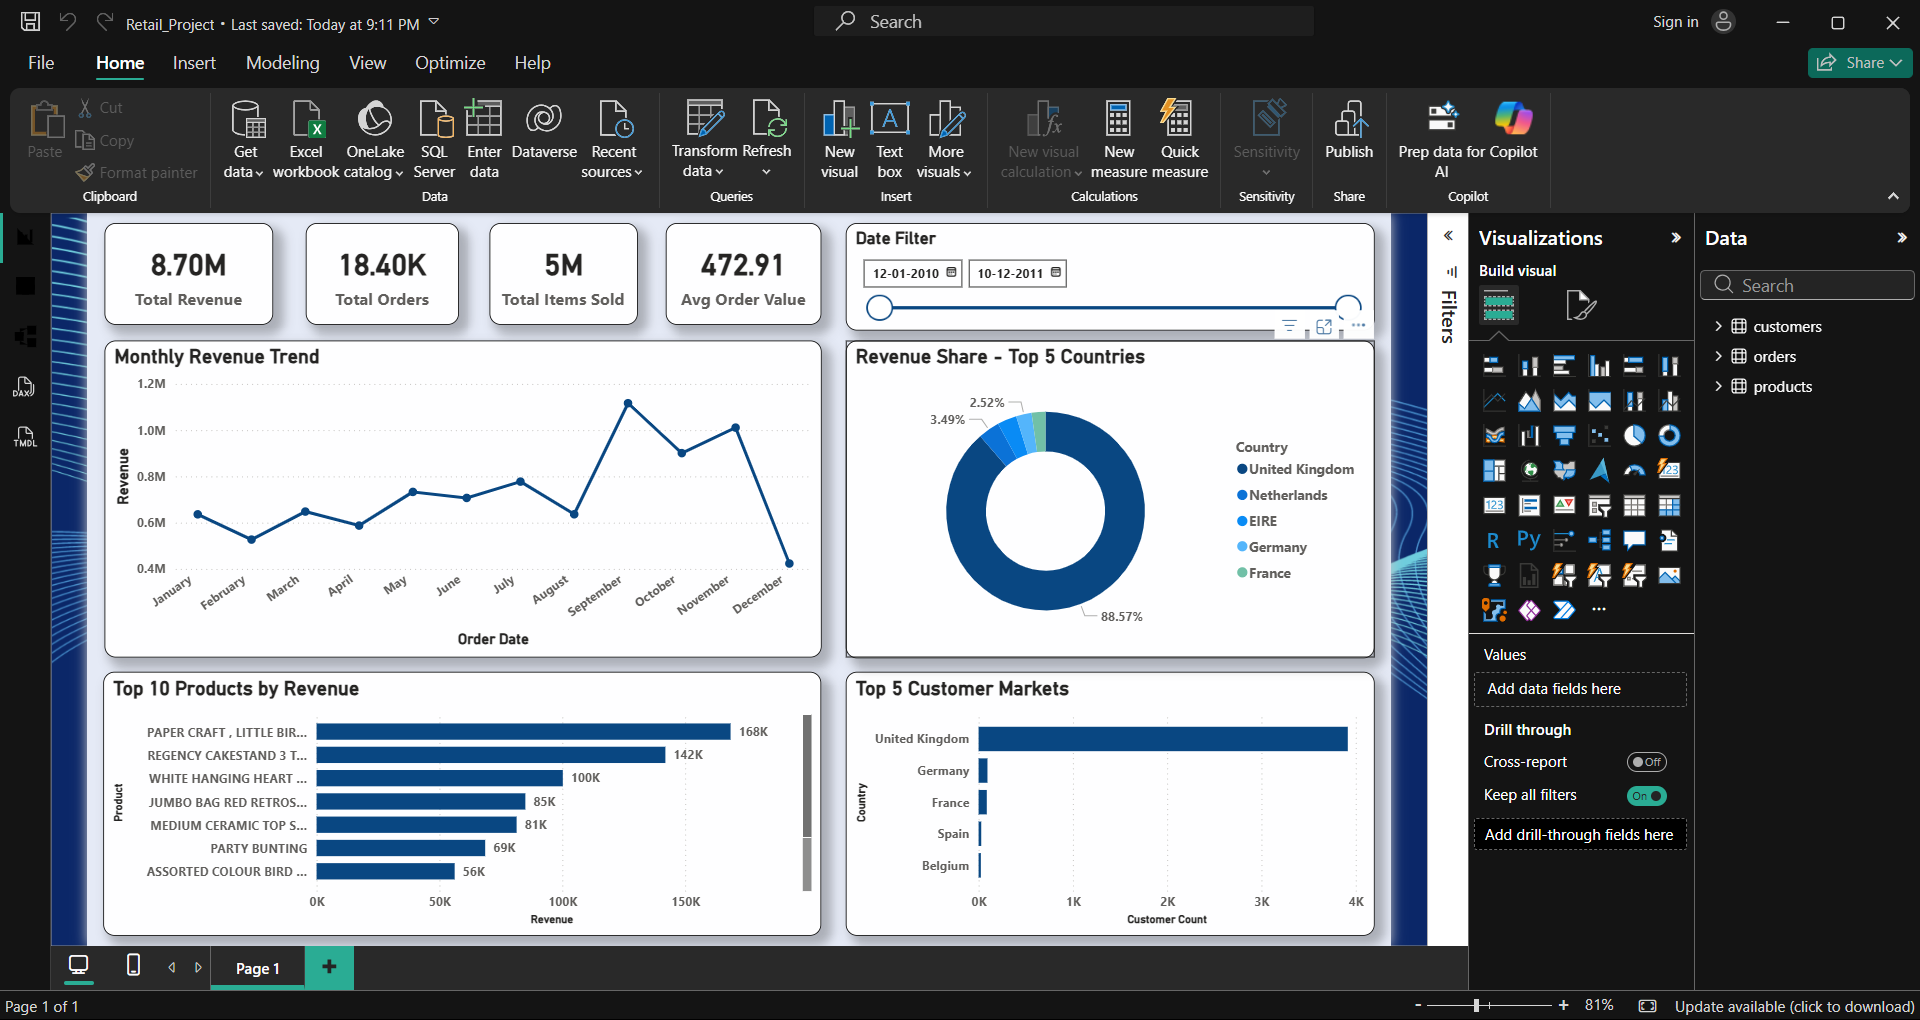

This screenshot's page, from the dashboard's own definition file:
{"tool":"powerbi","page":{"name":"Page 1","canvas":[1280,720],"ordinal":0},"visuals":[{"type":"card","fields":{"Values":["Sum(orders.total_price)"]},"box":[17.7,10.1,165.8,100],"z":0},{"type":"card","fields":{"Values":["Count(orders.invoice_no)"]},"box":[215.2,10.1,150.6,100],"z":1000},{"type":"card","fields":{"Values":["Sum(orders.quantity)"]},"box":[394.9,10.1,145.6,100],"z":2000},{"type":"card","fields":{"Values":["customers.Avg Order Value"]},"box":[568.4,10.1,153.2,100],"z":3000},{"type":"lineChart","title":"Monthly Revenue Trend","fields":{"Y":["Sum(orders.total_price)"],"Category":["orders.invoice_date.Variation.Date Hierarchy.Year","orders.invoice_date.Variation.Date Hierarchy.Month"]},"box":[17.7,125.3,703.8,311.4],"z":4000},{"type":"clusteredBarChart","title":"Top 10 Products by Revenue","fields":{"Category":["products.description"],"Y":["Sum(orders.total_price)"]},"box":[16.5,450.6,705.1,259.5],"z":5000},{"type":"clusteredBarChart","title":"Top 5 Customer Markets","fields":{"Category":["customers.country"],"Y":["CountNonNull(customers.customer_id)"]},"box":[744.3,450.6,519,259.5],"z":6000},{"type":"slicer","title":"Date Filter","fields":{"Values":["orders.invoice_date"]},"box":[744.8,9.8,519,105.5],"z":7000},{"type":"donutChart","title":"Revenue Share - Top 5 Countries","fields":{"Y":["Sum(orders.total_price)"],"Category":["customers.country"]},"box":[744.8,125.2,519,311.7],"z":8000}]}

Visuals, with their boxes on the page's 1280x720 design canvas (x1, y1, x2, y2). These are canvas units, not pixel positions in the 1920x1020 screenshot, which may show the page scaled, cropped or inside an application window:
card - Sum(orders.total_price): 18, 10, 184, 110
card - Count(orders.invoice_no): 215, 10, 366, 110
card - Sum(orders.quantity): 395, 10, 540, 110
card - customers.Avg Order Value: 568, 10, 722, 110
"Monthly Revenue Trend" lineChart: 18, 125, 722, 437
"Top 10 Products by Revenue" clusteredBarChart: 16, 451, 722, 710
"Top 5 Customer Markets" clusteredBarChart: 744, 451, 1263, 710
"Date Filter" slicer: 745, 10, 1264, 115
"Revenue Share - Top 5 Countries" donutChart: 745, 125, 1264, 437
